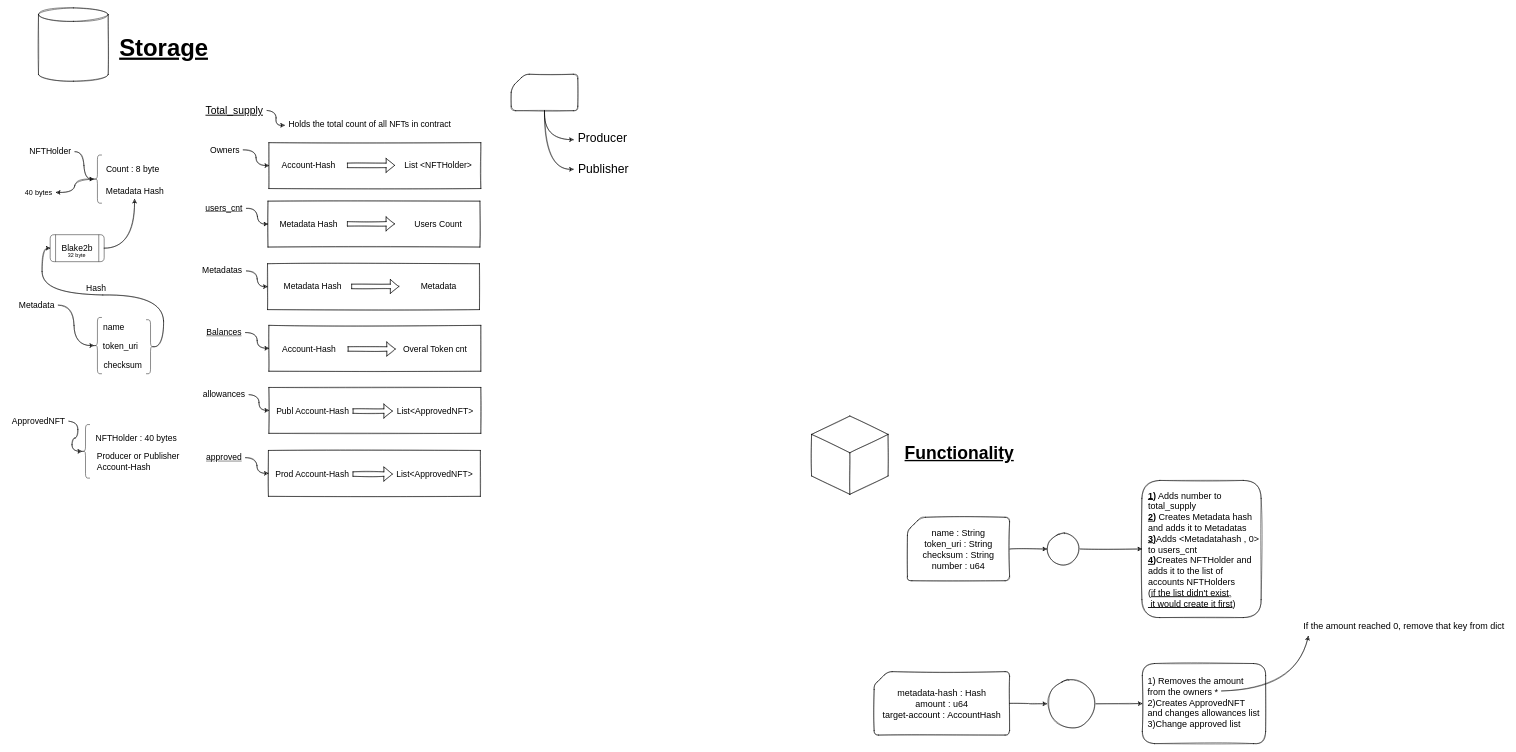
Image size: 1516x752. Some labels were removed from this diagram. The shapes that lost their labels are listed below. From the top down, each one's box as (x1, y1, x2, y2) in pixels, then its label:
(511, 74, 578, 111): Groups
(1046, 532, 1080, 565): Mint
(1046, 679, 1096, 728): Approve
